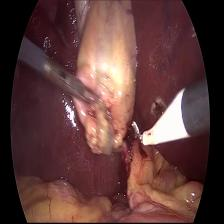Grasper: (24, 41, 102, 120)
Hook: (130, 74, 187, 175)
